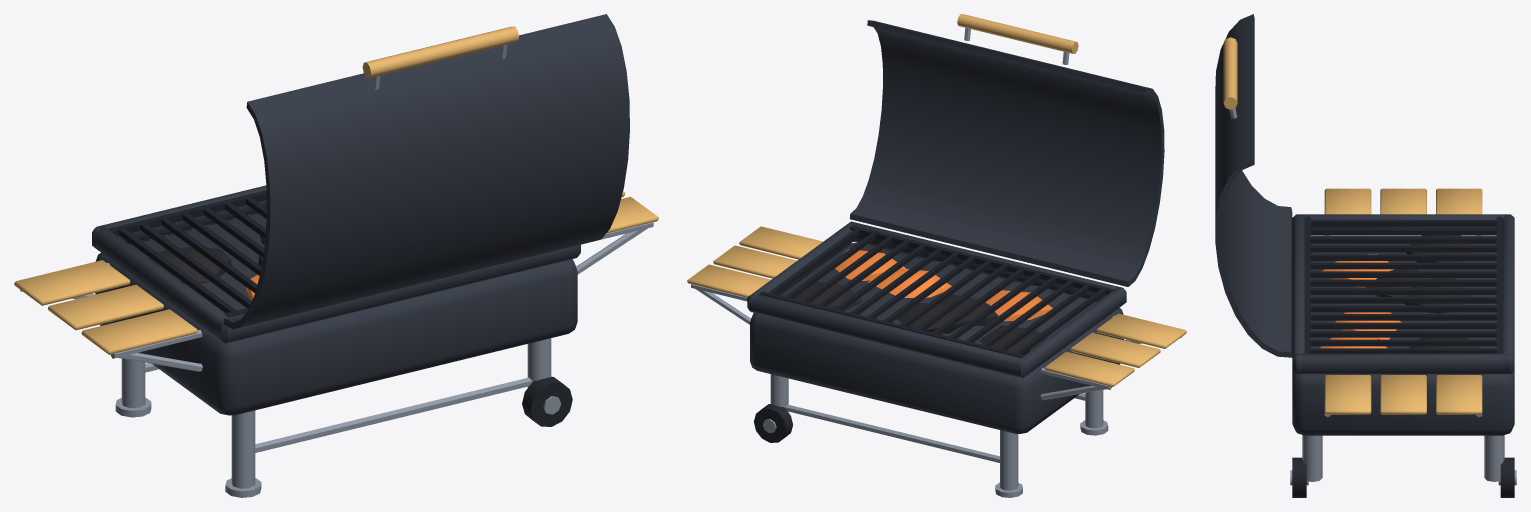
The model's file is Grill.fbx.
3 renders of one model, left to right at view 1: azimuth 30°, elevation 25°; view 2: azimuth 150°, elevation 25°; view 3: azimuth 270°, elevation 25°, orthographic. The views are drawn at different scales.
Parts seen in each view (by area): view 1: Grill; view 2: Grill; view 3: Grill.
Part boxes in pixels (x1,y1,x2,y2): Grill: (14, 14, 658, 497); Grill: (687, 14, 1186, 497); Grill: (1215, 14, 1516, 497).
Bounding box in the file's own units: 5.21 × 4.03 × 2.98.
